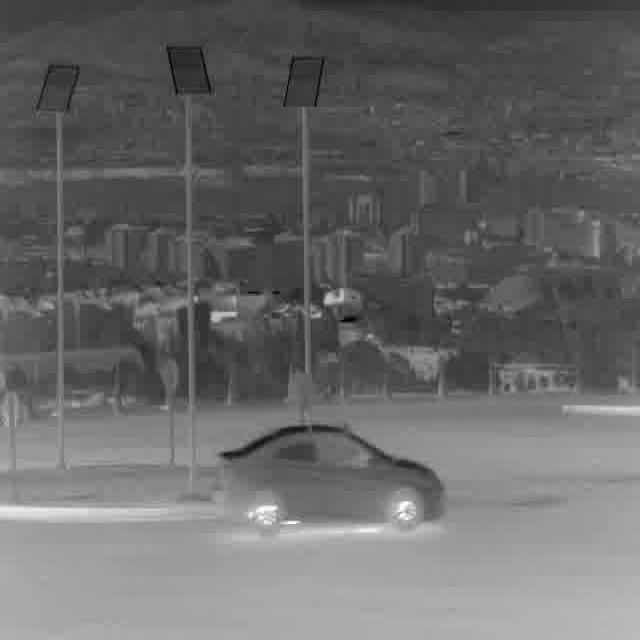Car: (214, 424, 446, 532)
